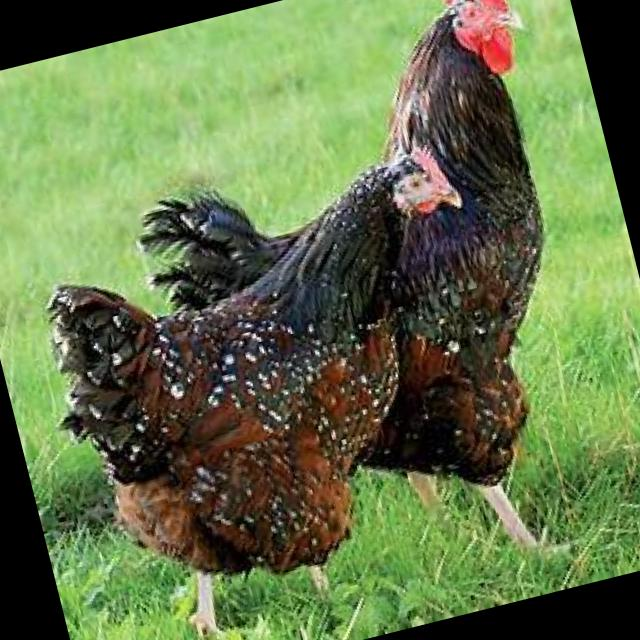chicken: (100, 0, 637, 602), (22, 139, 543, 640)
